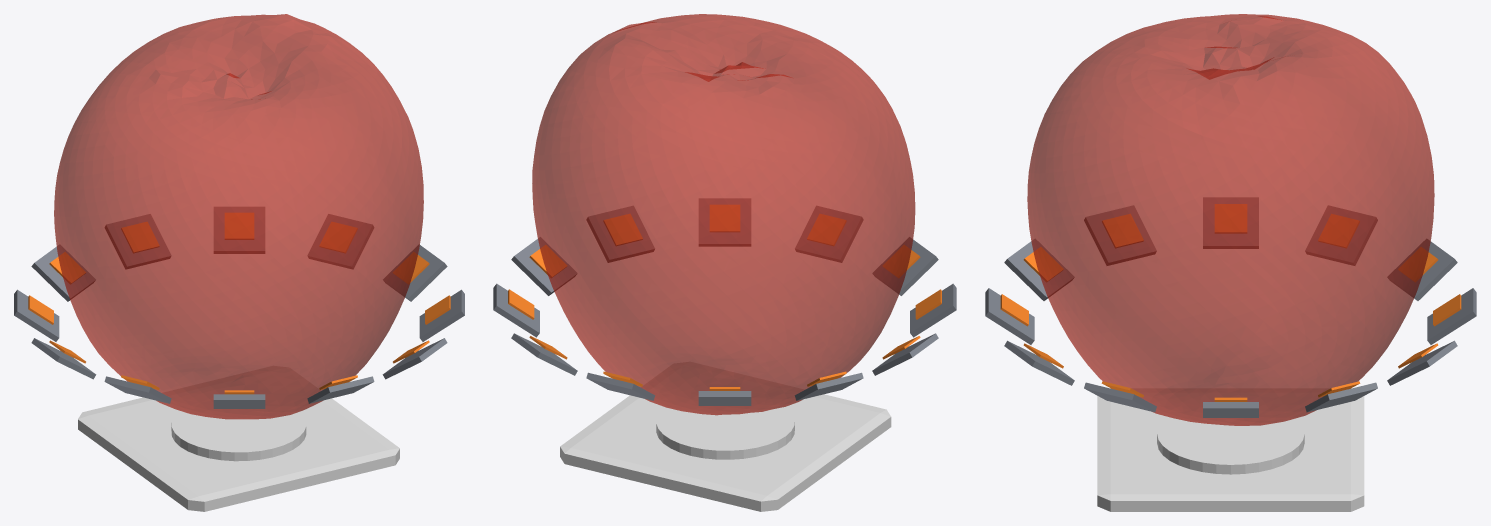
Rendered from FruitsimBlenderRig.fbx.
3 views of the same model, side by side, from view 1: azimuth 30°, elevation 25°; view 2: azimuth 150°, elevation 25°; view 3: azimuth 270°, elevation 25° (orthographic). The views are drawn at different scales.
Visible parts, largest first — view 1: BlenderApple, DetectorHousing, DetectorGlass, RingLampHousing_02, RingLampHousing_01, RingLampHousing_03, RingLampHousing_00, RingLampHousing_04, RingLampHousing_05, RingLampHousing_11, RingLampHousing_08, RingLampEmitter_02 (+8 smaller); view 2: BlenderApple, DetectorHousing, DetectorGlass, RingLampHousing_10, RingLampHousing_09, RingLampHousing_11, RingLampHousing_00, RingLampHousing_08, RingLampHousing_01, RingLampHousing_07, RingLampEmitter_09, RingLampEmitter_11 (+8 smaller); view 3: BlenderApple, DetectorHousing, DetectorGlass, RingLampHousing_06, RingLampHousing_05, RingLampHousing_07, RingLampHousing_08, RingLampHousing_04, RingLampHousing_03, RingLampHousing_09, RingLampEmitter_06, RingLampEmitter_05 (+8 smaller).
Boxes of the visible parts, x1=… form: BlenderApple: x1=54, y1=14, x2=423, y2=419; DetectorHousing: x1=78, y1=366, x2=399, y2=511; DetectorGlass: x1=171, y1=398, x2=306, y2=461; RingLampHousing_02: x1=214, y1=207, x2=264, y2=253; RingLampHousing_01: x1=307, y1=214, x2=373, y2=268; RingLampHousing_03: x1=105, y1=214, x2=171, y2=268; RingLampHousing_00: x1=383, y1=244, x2=447, y2=301; RingLampHousing_04: x1=31, y1=244, x2=95, y2=301; RingLampHousing_05: x1=14, y1=289, x2=59, y2=341; RingLampHousing_11: x1=419, y1=289, x2=464, y2=341; RingLampHousing_08: x1=213, y1=394, x2=265, y2=408; RingLampEmitter_02: x1=225, y1=213, x2=253, y2=239; BlenderApple: x1=532, y1=14, x2=915, y2=415; DetectorHousing: x1=560, y1=362, x2=891, y2=511; DetectorGlass: x1=656, y1=395, x2=794, y2=459; RingLampHousing_10: x1=699, y1=198, x2=750, y2=246; RingLampHousing_09: x1=795, y1=206, x2=863, y2=262; RingLampHousing_11: x1=586, y1=206, x2=654, y2=262; RingLampHousing_00: x1=511, y1=237, x2=577, y2=295; RingLampHousing_08: x1=872, y1=237, x2=938, y2=295; RingLampHousing_01: x1=493, y1=283, x2=539, y2=337; RingLampHousing_07: x1=910, y1=283, x2=956, y2=337; RingLampEmitter_09: x1=807, y1=214, x2=846, y2=245; RingLampEmitter_11: x1=603, y1=214, x2=642, y2=245; BlenderApple: x1=1027, y1=14, x2=1434, y2=425; DetectorHousing: x1=1097, y1=388, x2=1364, y2=511; DetectorGlass: x1=1157, y1=405, x2=1304, y2=474; RingLampHousing_06: x1=1203, y1=197, x2=1258, y2=248; RingLampHousing_05: x1=1305, y1=205, x2=1377, y2=265; RingLampHousing_07: x1=1084, y1=205, x2=1156, y2=265; RingLampHousing_08: x1=1004, y1=239, x2=1074, y2=300; RingLampHousing_04: x1=1387, y1=239, x2=1457, y2=300; RingLampHousing_03: x1=1427, y1=288, x2=1476, y2=344; RingLampHousing_09: x1=985, y1=288, x2=1034, y2=344; RingLampEmitter_06: x1=1215, y1=204, x2=1246, y2=233; RingLampEmitter_05: x1=1318, y1=214, x2=1359, y2=248.
Bounding box in the file's own units: 2.51 × 2.4 × 2.51.
